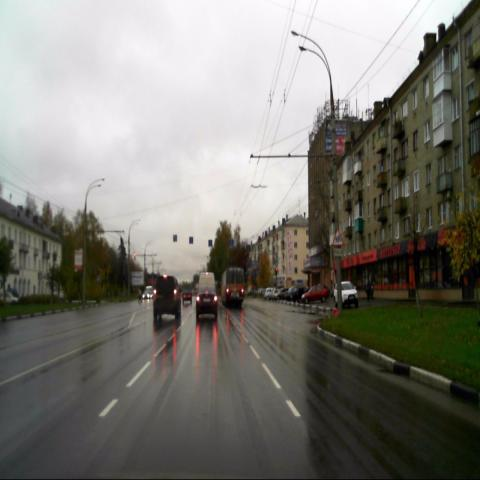1_23: (332, 228, 342, 246)
